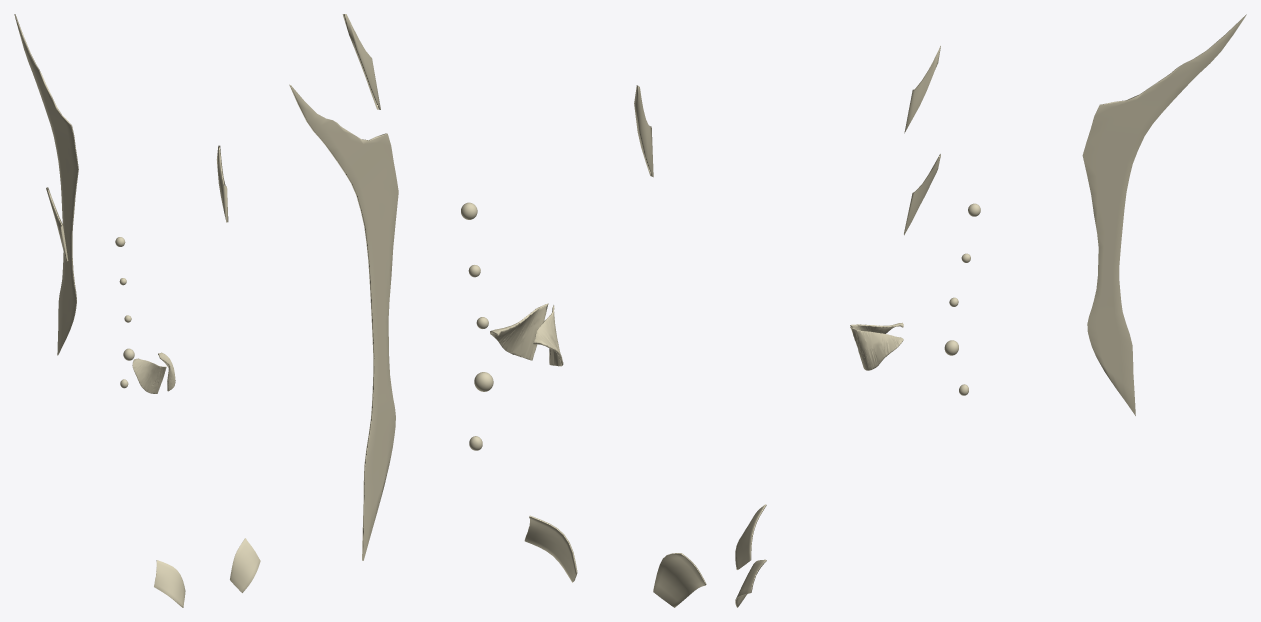
File: joints.neck.glb
The picture shows the model from 3 angles, left to right: view 1: azimuth 30°, elevation 25°; view 2: azimuth 150°, elevation 25°; view 3: azimuth 270°, elevation 25°; orthographic projection. The views are drawn at different scales.
Visible parts, largest first — view 1: nuchal_ligament, left_anterior_sternoclavicular_ligament, right_anterior_sternoclavicular_ligament, right_cricopharyngeal_ligament, left_stylomandibular_ligament, right_stylomandibular_ligament; view 2: nuchal_ligament, right_anterior_sternoclavicular_ligament, left_cricopharyngeal_ligament, left_anterior_sternoclavicular_ligament, right_stylomandibular_ligament, left_stylomandibular_ligament, right_cricopharyngeal_ligament; view 3: nuchal_ligament, left_cricopharyngeal_ligament, right_anterior_sternoclavicular_ligament, right_stylomandibular_ligament.
Boxes of the visible parts, x1,y1,x2,y2 form: nuchal_ligament: [14, 14, 78, 355]; left_anterior_sternoclavicular_ligament: [230, 538, 260, 592]; right_anterior_sternoclavicular_ligament: [154, 560, 185, 607]; right_cricopharyngeal_ligament: [132, 358, 166, 393]; left_stylomandibular_ligament: [216, 145, 228, 222]; right_stylomandibular_ligament: [46, 187, 68, 261]; nuchal_ligament: [289, 84, 398, 560]; right_anterior_sternoclavicular_ligament: [653, 553, 706, 607]; left_cricopharyngeal_ligament: [490, 303, 548, 360]; left_anterior_sternoclavicular_ligament: [524, 515, 577, 582]; right_stylomandibular_ligament: [634, 85, 653, 177]; left_stylomandibular_ligament: [342, 14, 380, 109]; right_cricopharyngeal_ligament: [533, 305, 563, 366]; nuchal_ligament: [1082, 14, 1246, 415]; left_cricopharyngeal_ligament: [850, 327, 903, 370]; right_anterior_sternoclavicular_ligament: [735, 504, 766, 569]; right_stylomandibular_ligament: [904, 46, 940, 133].
Size of the model in its own units: 0.0832 by 0.2022 by 0.1633.
